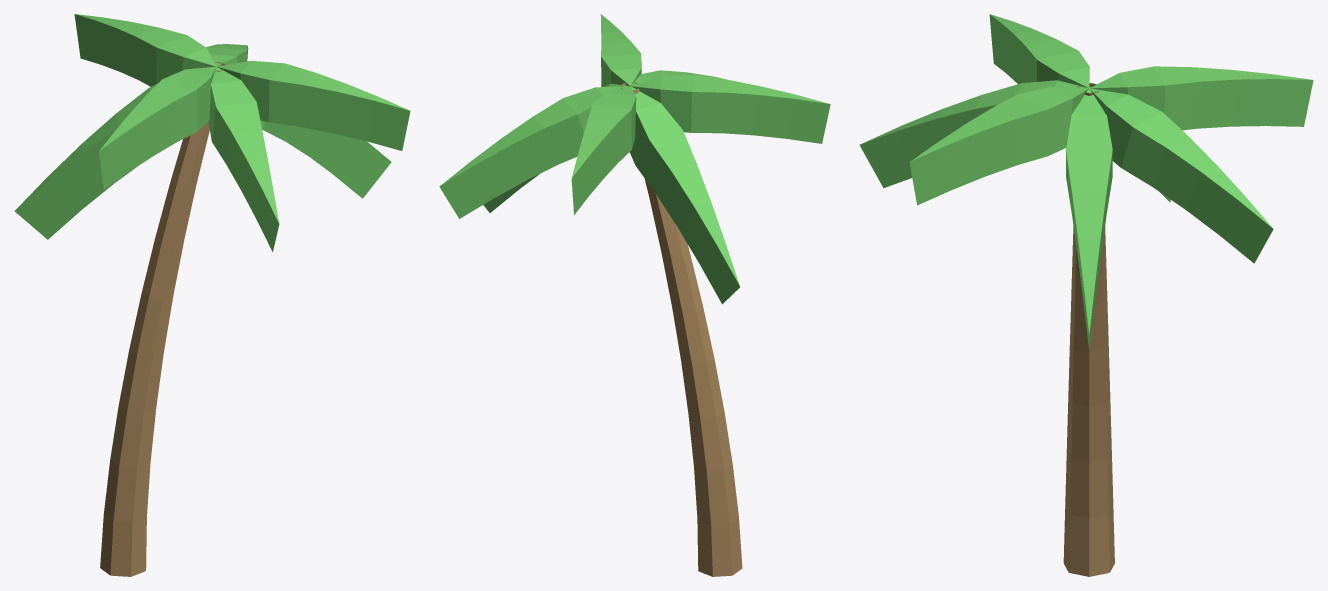
Rendered from CoconutTree_LOD0_roblox.fbx.
3 views of the same model, side by side, from view 1: azimuth 30°, elevation 25°; view 2: azimuth 150°, elevation 25°; view 3: azimuth 270°, elevation 25° (orthographic). The views are drawn at different scales.
Visible parts, largest first — view 1: CoconutTree_LeafMat, CoconutTree_TrunkMat; view 2: CoconutTree_LeafMat, CoconutTree_TrunkMat; view 3: CoconutTree_LeafMat, CoconutTree_TrunkMat.
Boxes of the visible parts, x1,y1,x2,y2 form: CoconutTree_LeafMat: [14, 14, 410, 251]; CoconutTree_TrunkMat: [100, 62, 225, 576]; CoconutTree_LeafMat: [439, 14, 830, 304]; CoconutTree_TrunkMat: [621, 82, 742, 576]; CoconutTree_LeafMat: [859, 14, 1313, 350]; CoconutTree_TrunkMat: [1063, 83, 1114, 576].
Size of the model in its own units: 6.66 by 7.03 by 9.09.
